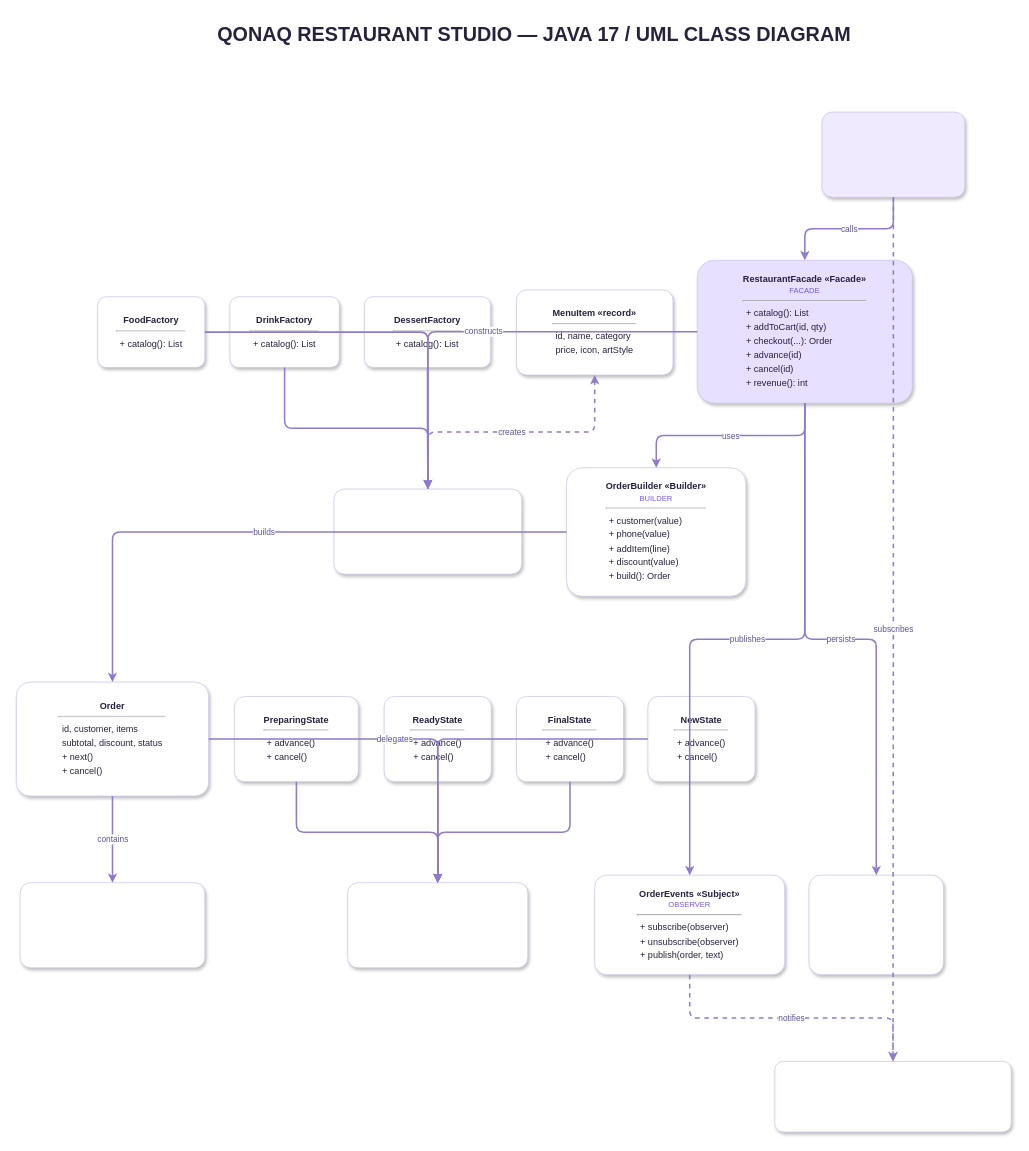
Image size: 1029x1151. Some labels were removed from this diagram. The centre of each missing label's shape, as x and y in pixels:
"CartLine «record» productId, name unitPrice, quantity, note" goes at [112,926].
"MenuFactory «abstract» FACTORY METHOD # create(...): MenuItem + catalog(): List" goes at [428,532].
"OrderObserver «interface» + onOrderChanged(order, text)" goes at [893,1097].
"OrderRepository + load(): List + save(orders) + file(): Path" goes at [876,925].
"OrderState «interface» STATE + advance(order) + cancel(order)" goes at [438,926].
"RestaurantFrame + navigate(page) + flash(message)" goes at [893,155].
